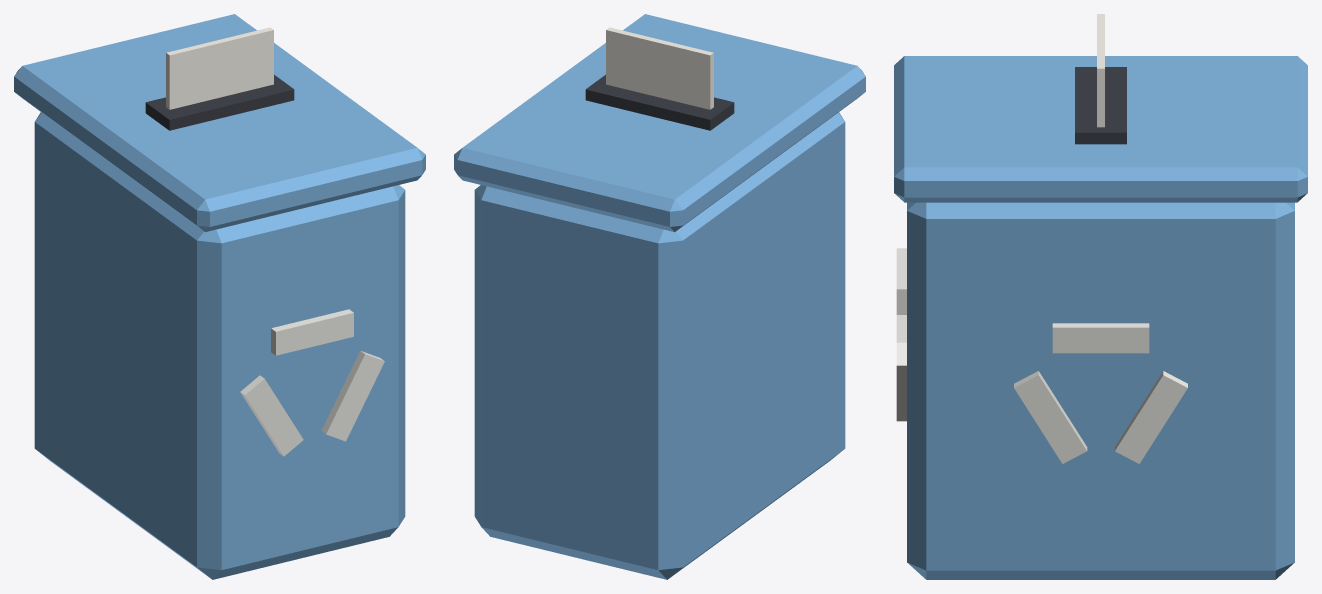
Rendered from shredder_m2_1.glb.
3 views of the same model, side by side, from view 1: azimuth 30°, elevation 25°; view 2: azimuth 150°, elevation 25°; view 3: azimuth 270°, elevation 25° (orthographic). The views are drawn at different scales.
Visible parts, largest first — view 1: shredder_m2_1_mesh; view 2: shredder_m2_1_mesh; view 3: shredder_m2_1_mesh.
Part boxes in pixels (left/top/right/bottom): shredder_m2_1_mesh: left=14, top=14, right=425, bottom=579; shredder_m2_1_mesh: left=454, top=14, right=865, bottom=579; shredder_m2_1_mesh: left=894, top=14, right=1307, bottom=579.
Bounding box in the file's own units: 0.22 × 0.42 × 0.32.
